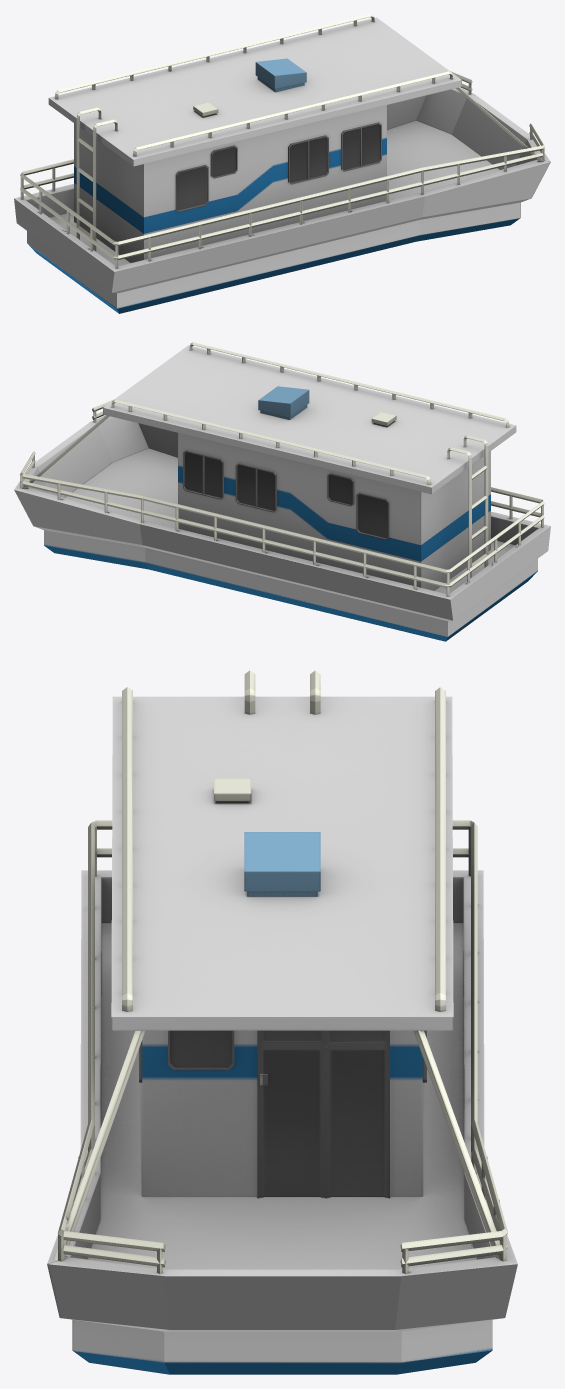
3 views of the same model, one above another, from view 1: azimuth 30°, elevation 25°; view 2: azimuth 150°, elevation 25°; view 3: azimuth 270°, elevation 25° (orthographic). The views are drawn at different scales.
Parts seen in each view (by area): view 1: Houseboat_mesh; view 2: Houseboat_mesh; view 3: Houseboat_mesh.
Boxes of the visible parts, x1=… form: Houseboat_mesh: x1=14, y1=14, x2=550, y2=313; Houseboat_mesh: x1=14, y1=342, x2=550, y2=641; Houseboat_mesh: x1=47, y1=670, x2=517, y2=1374.
Bounding box in the file's own units: 17.64 × 6.48 × 8.17.
1 material, 1 textured.
